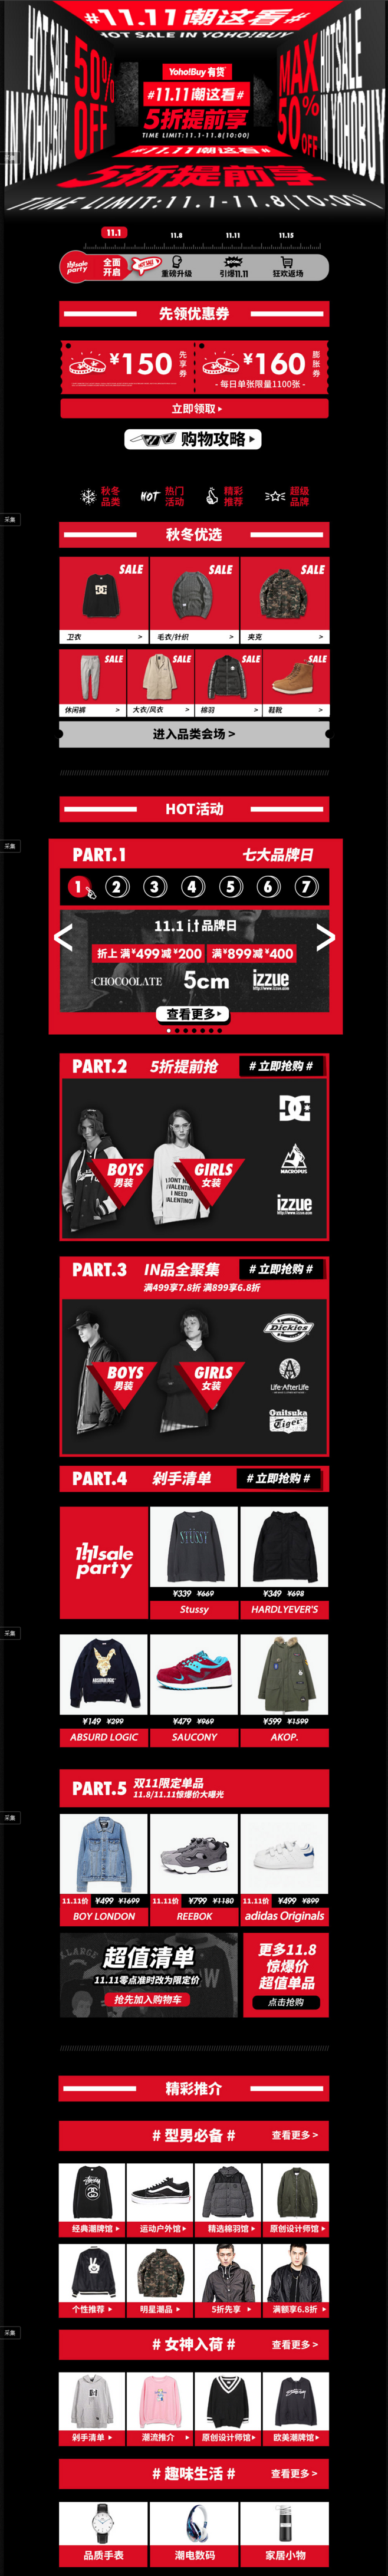floors: (0, 794, 388, 2022), (0, 2075, 388, 2569), (0, 519, 388, 751), (0, 299, 388, 421)
toutu: (0, 0, 388, 209)
